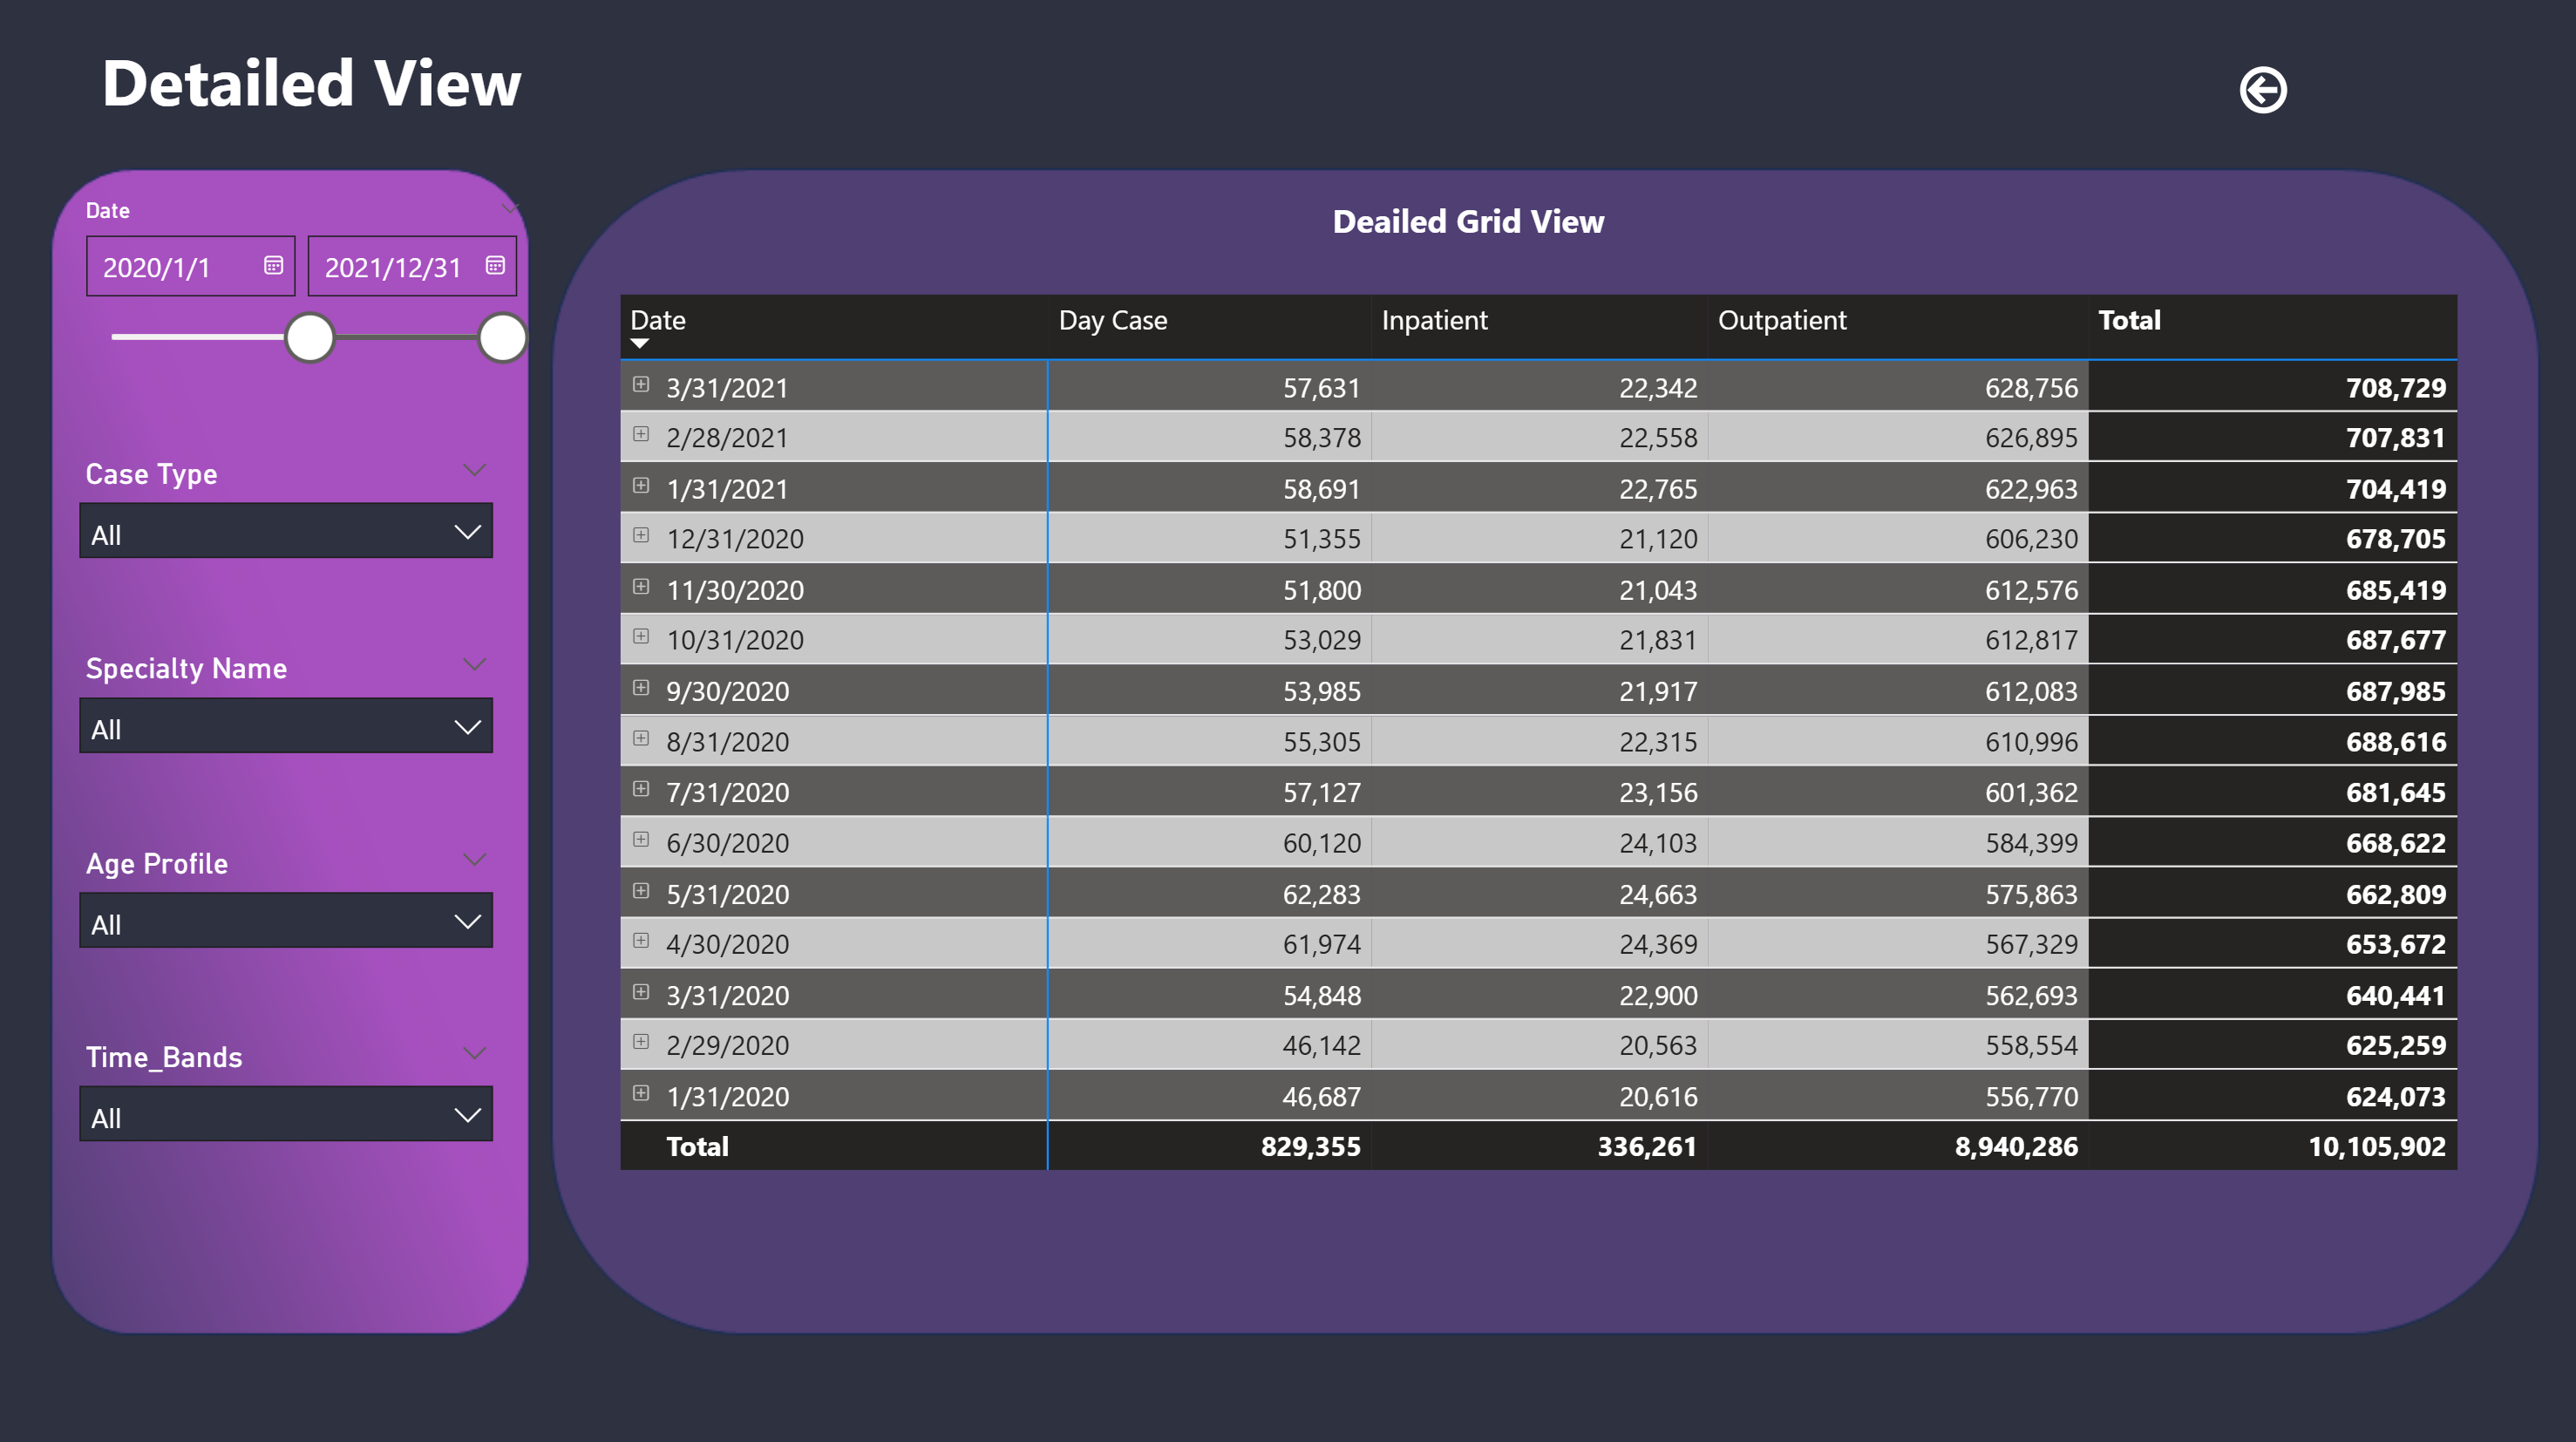

What the dashboard file says about the page in this screenshot:
{"tool":"powerbi","page":{"name":"Detail","canvas":[1280,720],"ordinal":1},"visuals":[{"type":"slicer","fields":{"Values":["DateTable.Date"]},"box":[32,96,240,96],"z":0},{"type":"slicer","fields":{"Values":["All_Data.Case_Type"]},"box":[32,224,224,64],"z":1000},{"type":"slicer","fields":{"Values":["All_Data.Specialty_Name"]},"box":[32,320,224,64],"z":2000},{"type":"textbox","box":[48,16,256,64],"z":3000},{"type":"slicer","fields":{"Values":["All_Data.Time_Bands"]},"box":[32,512,224,64],"z":4000},{"type":"slicer","fields":{"Values":["All_Data.Age_Profile"]},"box":[32,416,224,64],"z":5000},{"type":"pivotTable","fields":{"Columns":["All_Data.Case_Type"],"Rows":["DateTable.Date","All_Data.Specialty_Name","All_Data.Age_Profile","All_Data.Time_Bands"],"Values":["Sum(All_Data.Total)"]},"box":[304,144,944,480],"z":6000},{"type":"actionButton","box":[1104,32,112,32],"z":7000},{"type":"textbox","box":[656,96,176,32],"z":8000}]}

Visuals, with their boxes in screenshot pixels (x1, y1, x2, y2), scaled from the page's 1280x720 canvas onto the 2576x1442 screenshot:
slicer - DateTable.Date: [65, 193, 547, 384]
slicer - All_Data.Case_Type: [65, 449, 515, 577]
slicer - All_Data.Specialty_Name: [65, 641, 515, 769]
textbox: [97, 32, 612, 160]
slicer - All_Data.Time_Bands: [65, 1025, 515, 1153]
slicer - All_Data.Age_Profile: [65, 833, 515, 962]
pivotTable - All_Data.Case_Type x DateTable.Date: [612, 289, 2511, 1249]
actionButton: [2222, 65, 2447, 128]
textbox: [1320, 193, 1675, 256]
